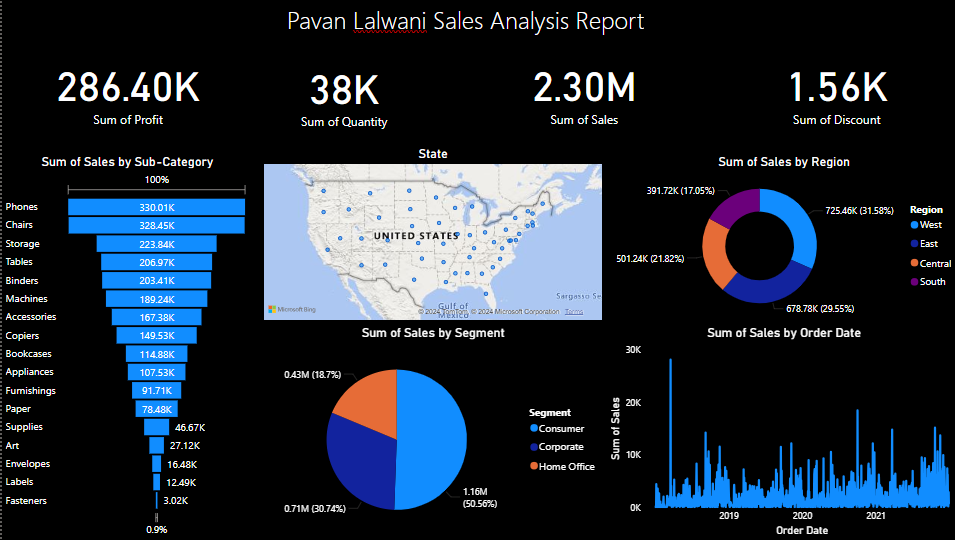

The dashboard page shown, as its layout file describes it:
{"tool":"powerbi","page":{"name":" Dashboard","canvas":[1280,720],"ordinal":0},"visuals":[{"type":"donutChart","fields":{"Category":["Orders.Region"],"Y":["Orders.Sales"]},"box":[804.3,205.7,475.7,227.1],"z":0},{"type":"funnel","fields":{"Category":["Orders.Sub-Category"],"Y":["Orders.Sales"]},"box":[0,205.7,334.3,514.3],"z":1000},{"type":"map","fields":{"Category":["Orders.State"]},"box":[344.3,195.7,460,237.1],"z":2000},{"type":"pieChart","fields":{"Category":["Orders.Segment"],"Y":["Orders.Sales"]},"box":[344.3,432.9,460,287.1],"z":3000},{"type":"lineChart","fields":{"Category":["Orders.Order Date"],"Y":["Orders.Sales"]},"box":[804.3,432.9,475.7,287.1],"z":4000},{"type":"card","fields":{"Values":["Orders.Sales"]},"box":[679.2,60.3,193,120.6],"z":5000},{"type":"card","fields":{"Values":["Orders.Profit"]},"box":[62.7,60.3,209.9,120.6],"z":6000},{"type":"card","fields":{"Values":["Orders.Discount"]},"box":[1023.1,60.3,179.8,120.6],"z":7000},{"type":"card","fields":{"Values":["Orders.Quantity"]},"box":[375.2,60.3,162.9,126.7],"z":8000},{"type":"textbox","box":[375.2,0,491,60.3],"z":9000}]}

Visuals, with their boxes in screenshot pixels (x1, y1, x2, y2), scaled from the page's 1280x720 canvas onto the 955x540 screenshot:
donutChart - Orders.Region x Orders.Sales: x1=600 y1=154 x2=954 y2=325
funnel - Orders.Sub-Category x Orders.Sales: x1=0 y1=154 x2=249 y2=539
map - Orders.State: x1=257 y1=147 x2=600 y2=325
pieChart - Orders.Segment x Orders.Sales: x1=257 y1=325 x2=600 y2=539
lineChart - Orders.Order Date x Orders.Sales: x1=600 y1=325 x2=954 y2=539
card - Orders.Sales: x1=507 y1=45 x2=651 y2=136
card - Orders.Profit: x1=47 y1=45 x2=203 y2=136
card - Orders.Discount: x1=763 y1=45 x2=897 y2=136
card - Orders.Quantity: x1=280 y1=45 x2=401 y2=140
textbox: x1=280 y1=0 x2=646 y2=45
